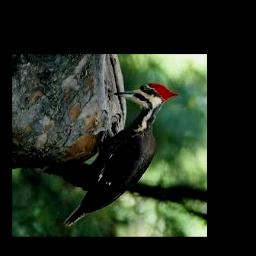Woodpecker: (62, 83, 179, 225)
